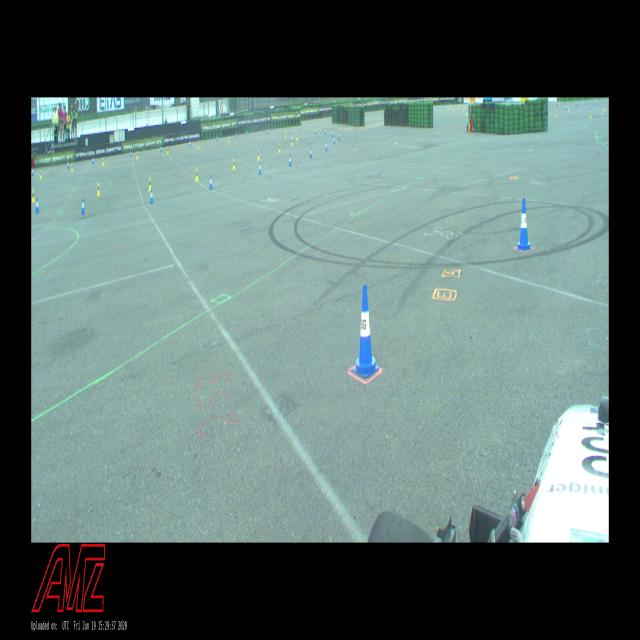blue_cone: (353, 284, 379, 376), (516, 198, 532, 250), (81, 198, 85, 214), (150, 189, 154, 204), (258, 162, 262, 174), (36, 198, 39, 212), (210, 176, 213, 190), (290, 154, 292, 167), (310, 147, 312, 158), (338, 131, 340, 140), (32, 168, 34, 176), (160, 146, 162, 152), (566, 105, 568, 111), (589, 104, 591, 110), (326, 140, 327, 151), (130, 151, 132, 156), (334, 136, 335, 144), (93, 156, 94, 164), (315, 126, 316, 134), (332, 129, 333, 137), (467, 118, 468, 126), (596, 100, 598, 104), (325, 128, 326, 135), (190, 140, 191, 147), (290, 127, 291, 134), (236, 131, 237, 138), (68, 162, 69, 168), (217, 136, 218, 141), (576, 101, 577, 105), (268, 129, 268, 134), (248, 130, 248, 136)
orange_cone: (558, 103, 560, 108), (602, 110, 602, 117)
yellow_cone: (97, 182, 100, 195), (32, 189, 34, 202), (149, 177, 151, 190), (196, 168, 198, 181), (258, 150, 260, 160), (233, 159, 235, 169), (40, 170, 42, 179), (71, 163, 73, 172), (278, 144, 280, 152), (468, 118, 470, 126), (296, 133, 298, 140), (292, 138, 294, 145), (167, 147, 169, 154), (228, 136, 230, 142), (103, 158, 104, 165), (590, 111, 591, 118), (259, 132, 260, 139), (137, 152, 138, 158), (198, 142, 199, 148), (467, 110, 468, 116), (464, 105, 466, 108), (582, 99, 583, 103), (453, 108, 454, 112), (451, 106, 452, 110), (458, 105, 459, 109), (447, 107, 448, 111), (463, 109, 464, 112), (286, 131, 286, 137), (556, 110, 556, 117), (568, 106, 568, 112), (604, 105, 604, 111), (448, 112, 448, 117)
